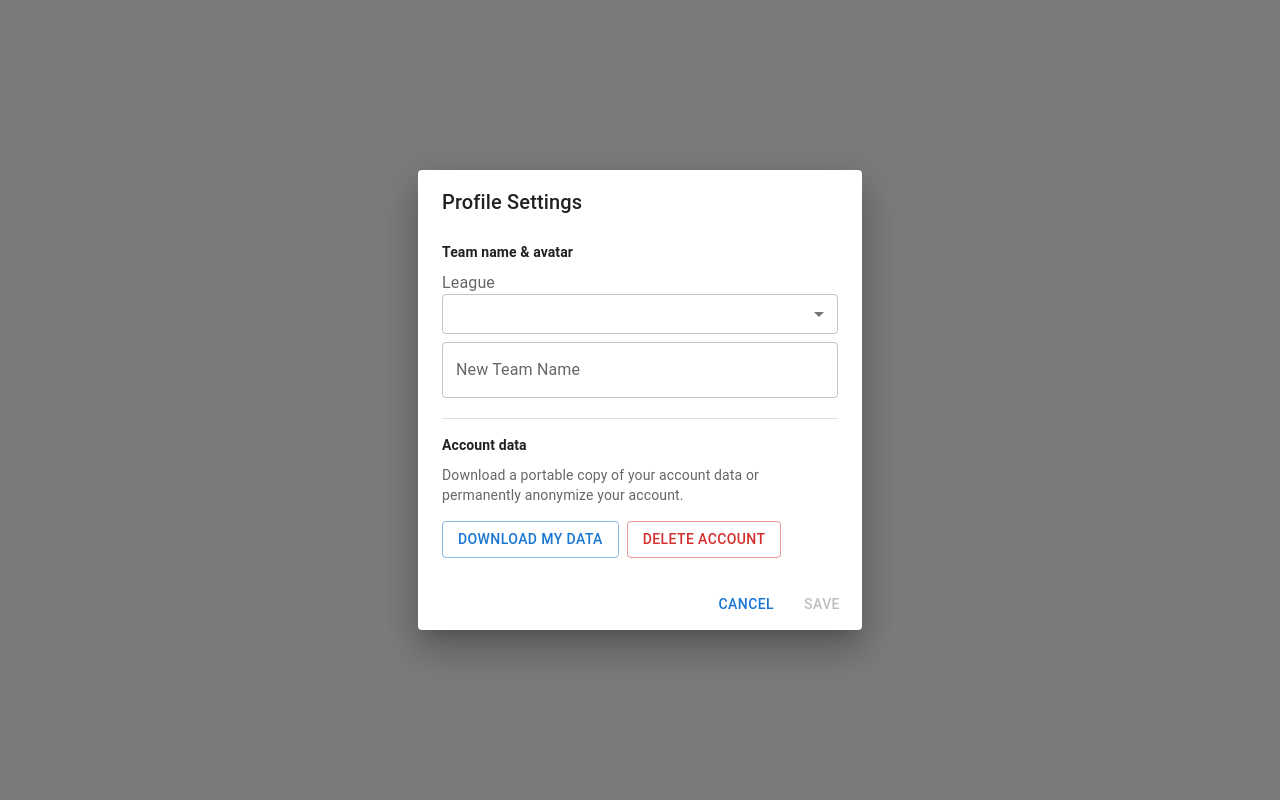
Test: shows the avatar uploader for the selected league
The image size is (1280, 800).
Click the dropdown named "League": (640,314) top-left (442, 294), bottom-right (838, 334)
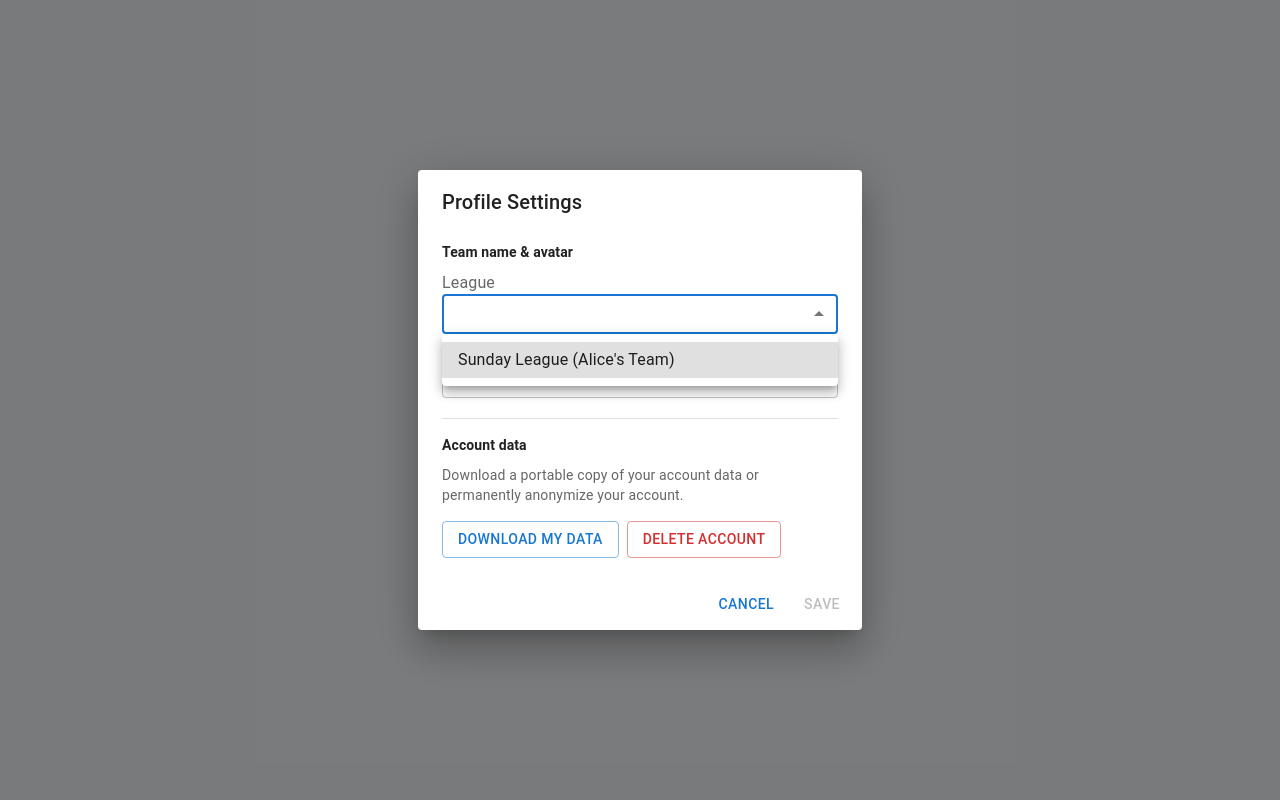
Click the option "Sunday League (Alice's Team)": (640,360) top-left (442, 342), bottom-right (838, 378)
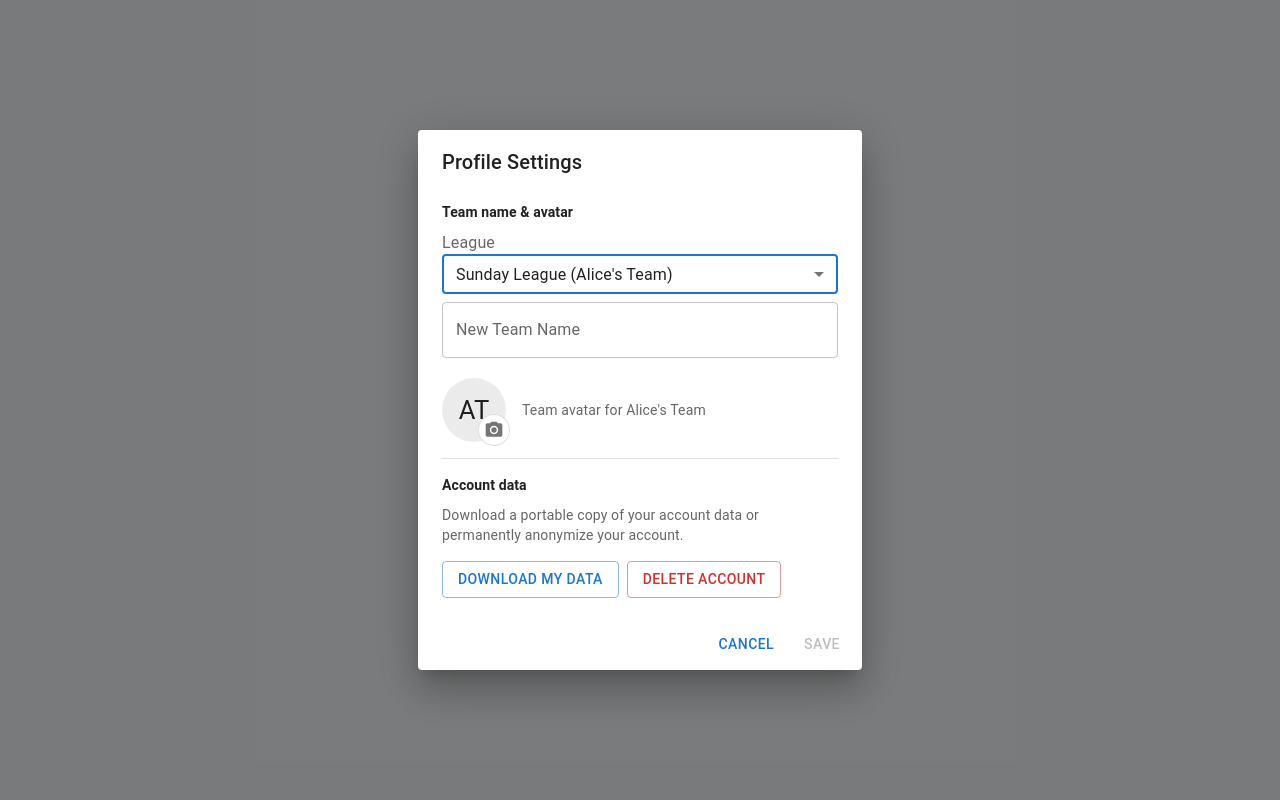
Expected: the text "Team avatar for Alice's Team" is shown, top-left (522, 400), bottom-right (706, 420)
Expected: the button named "Change Alice's Team avatar" is shown, top-left (478, 414), bottom-right (510, 446)
